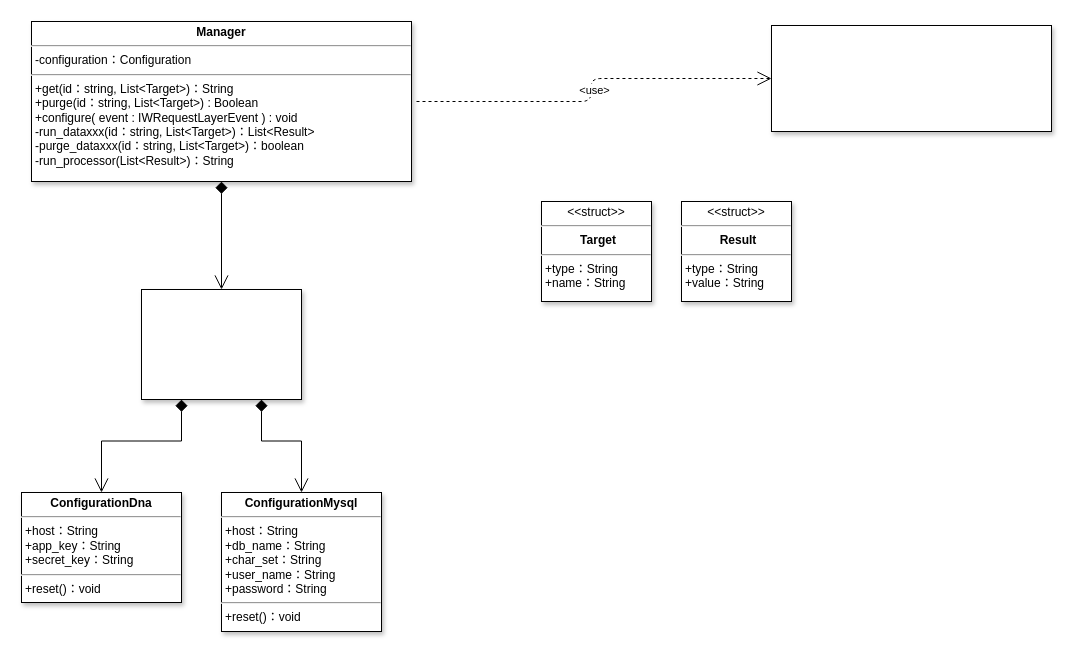
Some shapes in this 1075 by 656 pixel diagram are drawn without their labels. Here are the shapes that lost their labels. From the top down, the centre of each, then its label:
(x=912, y=79): Processor +plugins_dir：Array +run(List<Result>) : String +run_plugins(Result)
(x=222, y=345): Configuration +dna：ConfigureDna +mysql：ConfigureMysql +reset()：void
